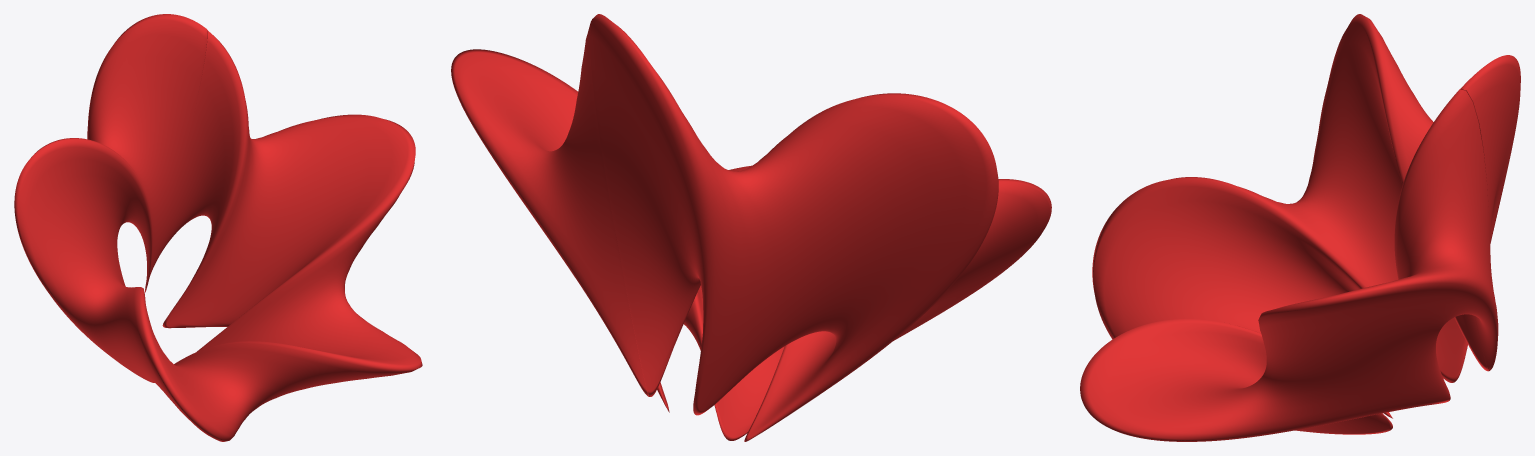
File: asset.glb
3 renders of one model, left to right at view 1: azimuth 30°, elevation 25°; view 2: azimuth 150°, elevation 25°; view 3: azimuth 270°, elevation 25°, orthographic. The views are drawn at different scales.
Parts seen in each view (by area): view 1: Torus Knot004; view 2: Torus Knot004; view 3: Torus Knot004.
Boxes of the visible parts, <box> form: Torus Knot004: <box>14,14,422,441</box>; Torus Knot004: <box>451,14,1051,441</box>; Torus Knot004: <box>1080,14,1520,441</box>.
Bounding box in the file's own units: 2 × 1.61 × 1.61.
